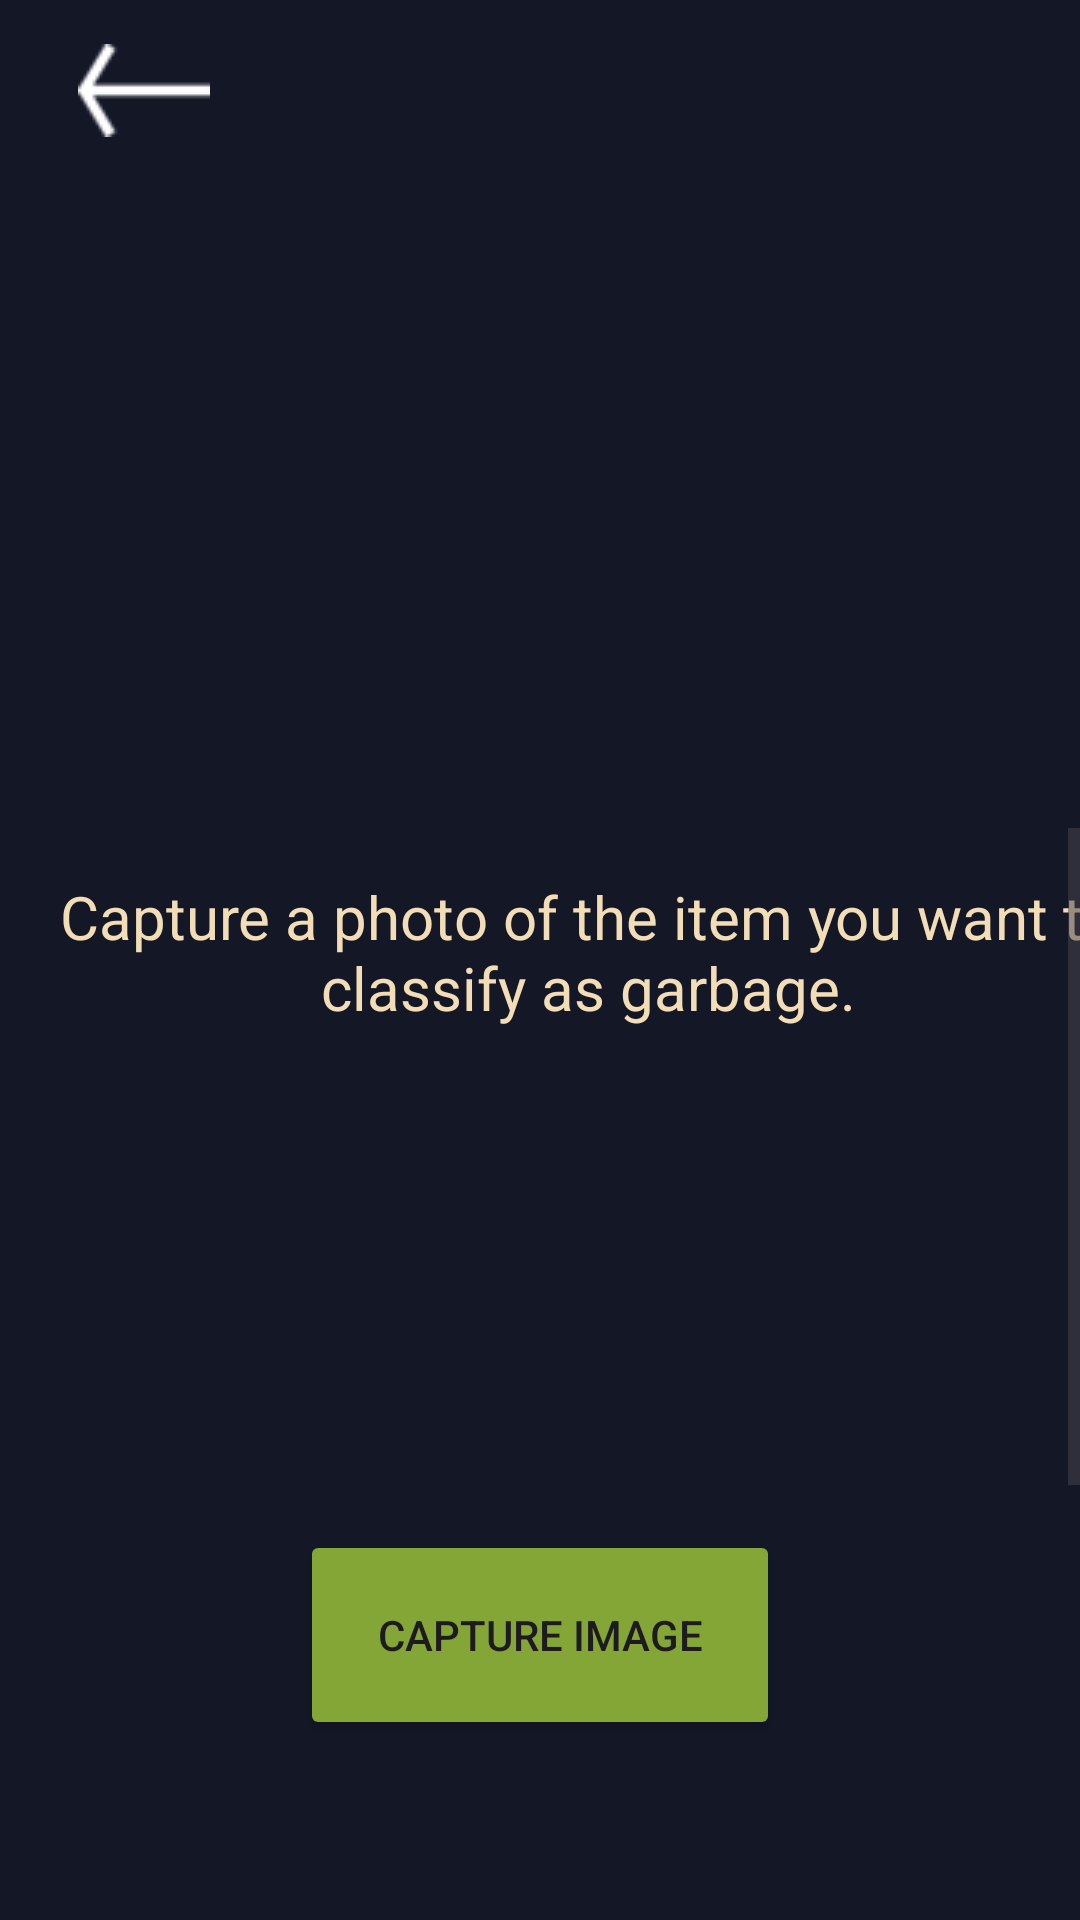

Named icons in this screenshot (1080 x 1920) and their bounding boxes, {"x1": x1, "y1": y1, "x2": x2, "y2": y2}:
back button: {"x1": 78, "y1": 44, "x2": 210, "y2": 137}
